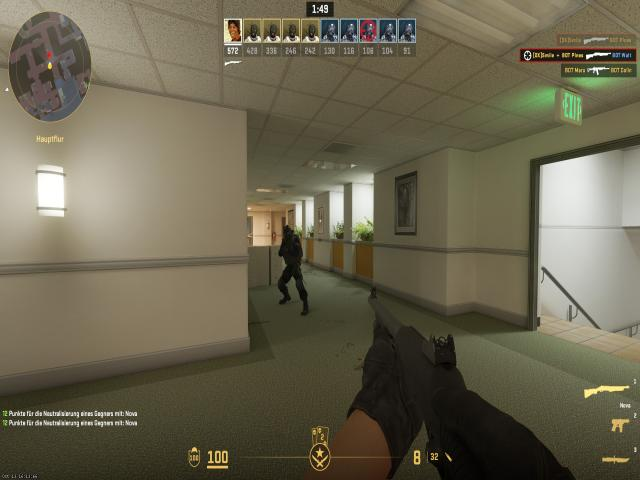CT: (282, 225, 300, 303)
CT-Head: (283, 225, 294, 239)
